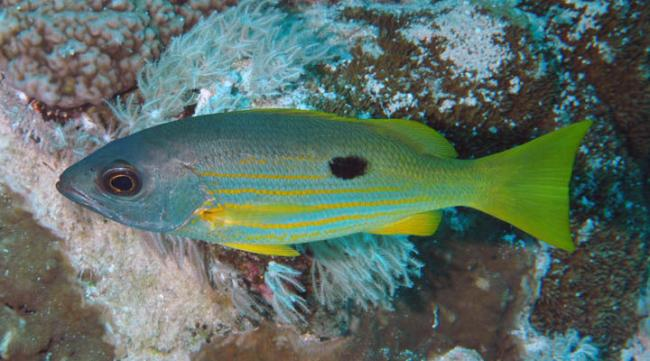fish: (56, 108, 592, 257)
